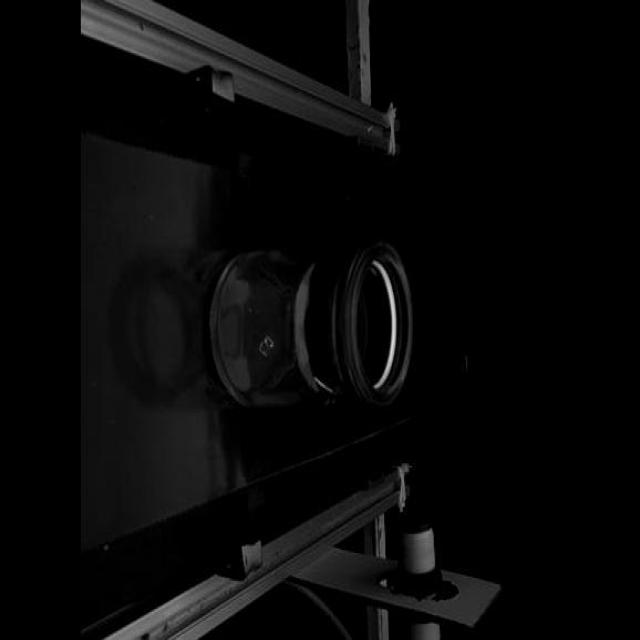defect: (310, 375, 334, 396)
glass: (204, 234, 417, 416)
